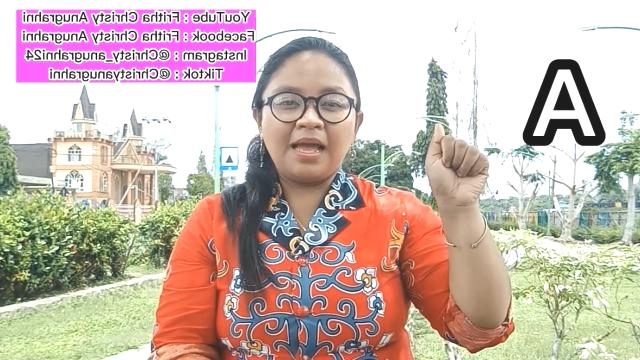A: (423, 122, 491, 212)
